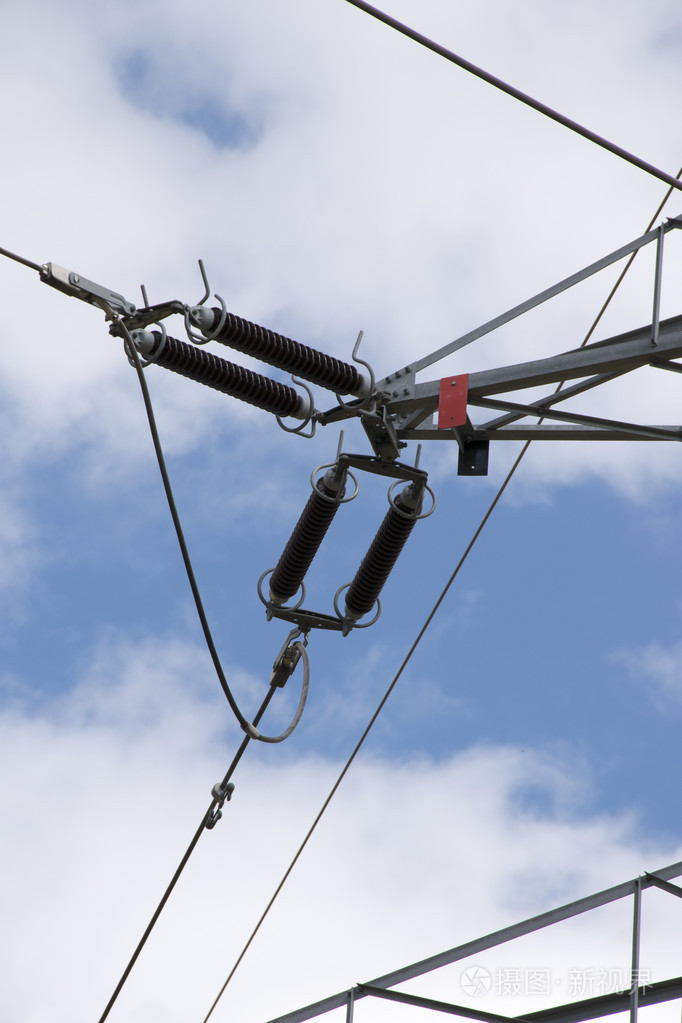insulator: (137, 328, 300, 420), (205, 305, 363, 392), (340, 479, 434, 616), (263, 468, 352, 599)
